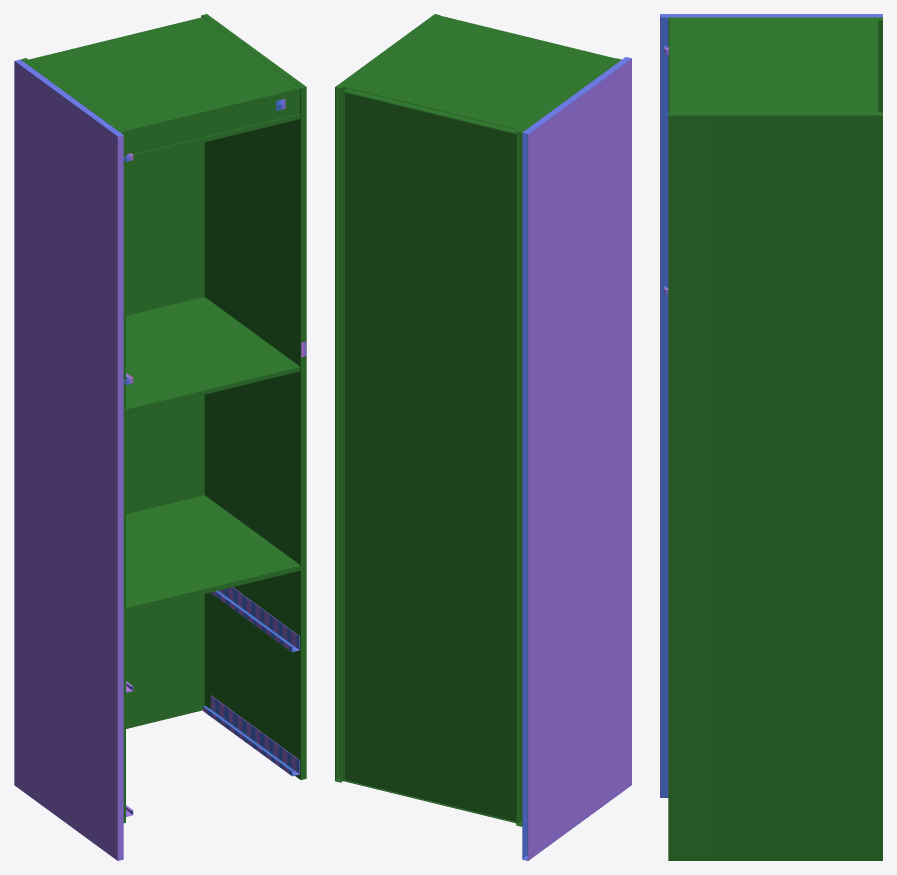
The model's file is SM_Kitchen_01_Base.fbx.
3 renders of one model, left to right at view 1: azimuth 30°, elevation 25°; view 2: azimuth 150°, elevation 25°; view 3: azimuth 270°, elevation 25°, orthographic. The views are drawn at different scales.
Visible parts, largest first — view 1: SM_Kitchen_01_Base; view 2: SM_Kitchen_01_Base; view 3: SM_Kitchen_01_Base.
Part boxes in pixels (<box>): SM_Kitchen_01_Base: <box>14,14,306,860</box>; SM_Kitchen_01_Base: <box>335,14,631,860</box>; SM_Kitchen_01_Base: <box>660,14,882,860</box>.
Bounding box in the file's own units: 61.99 × 223 × 57.59.
3 materials, 2 textured.
